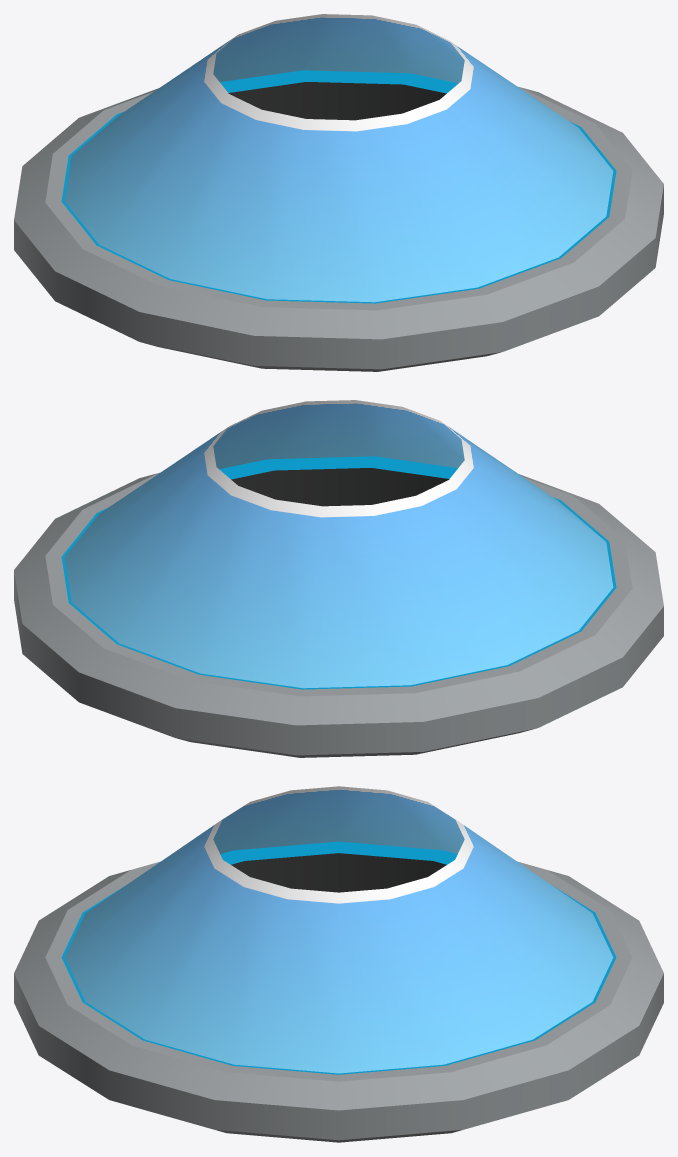
Rendered from Armchair_009.fbx.
3 renders of one model, top to bottom at view 1: azimuth 30°, elevation 25°; view 2: azimuth 150°, elevation 25°; view 3: azimuth 270°, elevation 25°, orthographic.
Parts seen in each view (by area): view 1: Armchair_009; view 2: Armchair_009; view 3: Armchair_009.
Boxes of the visible parts, <box> form: Armchair_009: <box>14,14,663,371</box>; Armchair_009: <box>14,400,663,757</box>; Armchair_009: <box>14,786,663,1142</box>.
Bounding box in the file's own units: 51.47 × 51.47 × 15.65.
